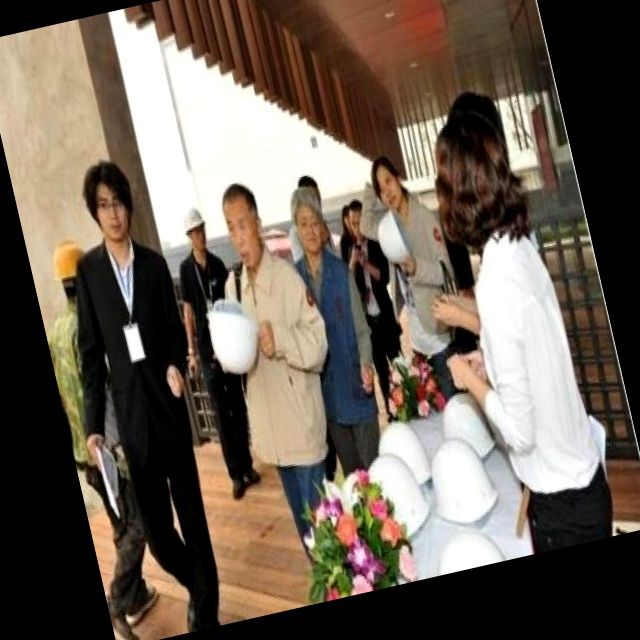Sin_Casco_Mascarrilla: (217, 180, 268, 269)
Sin_Chaleco: (75, 229, 202, 453)
